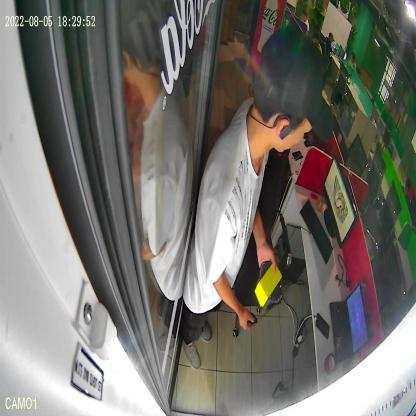yellow: (254, 260, 283, 308)
